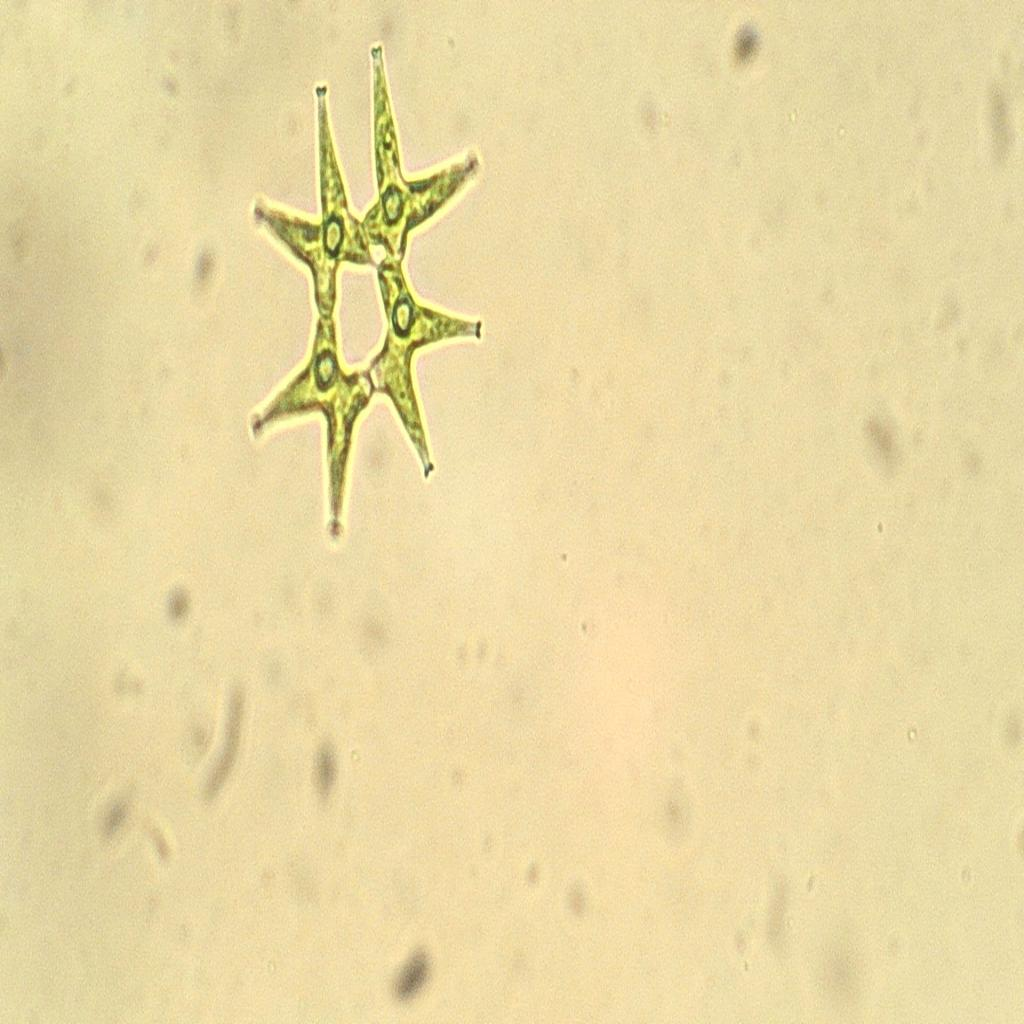Pediastrum_CF: (234, 26, 501, 546)
